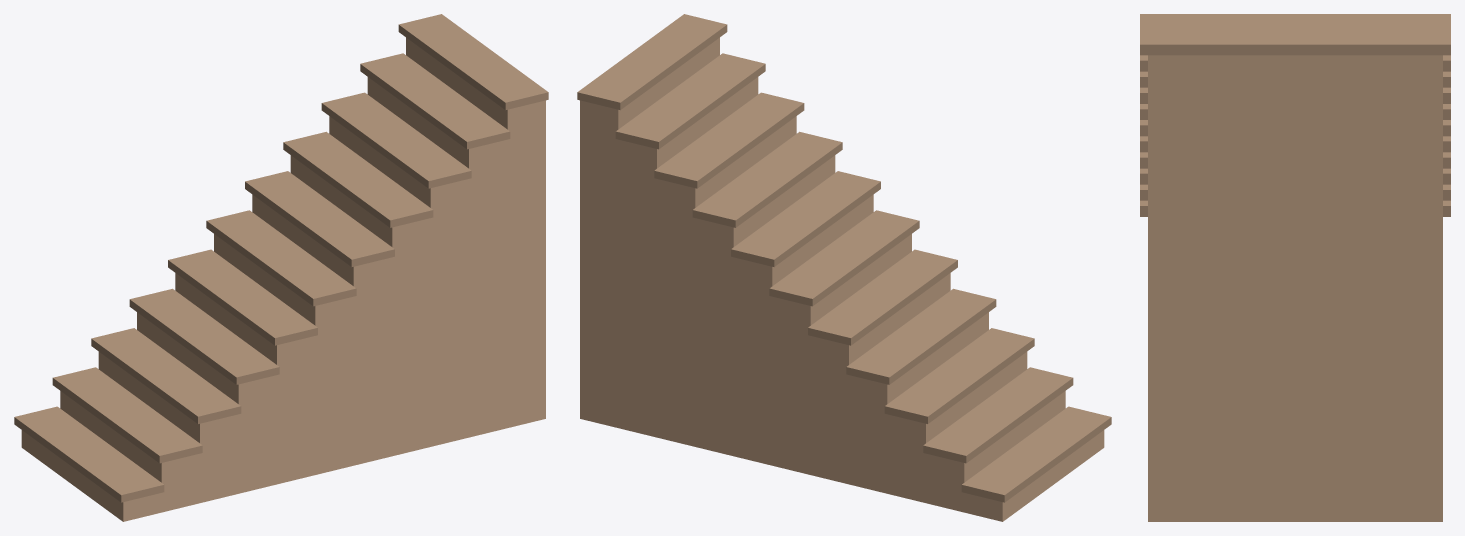
Rendered from stairs.glb.
3 views of the same model, side by side, from view 1: azimuth 30°, elevation 25°; view 2: azimuth 150°, elevation 25°; view 3: azimuth 270°, elevation 25° (orthographic). The views are drawn at different scales.
Parts seen in each view (by area): view 1: stairs; view 2: stairs; view 3: stairs.
Boxes of the visible parts, x1,y1,x2,y2 form: stairs: (14, 14, 548, 521); stairs: (577, 14, 1111, 521); stairs: (1140, 14, 1450, 521).
Size of the model in its own units: 1.82 by 1.34 by 0.79.
